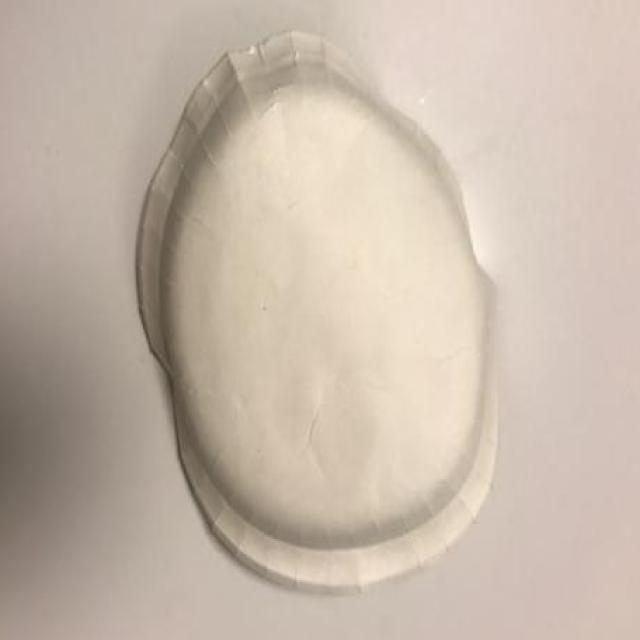kertas: (132, 28, 506, 596)
